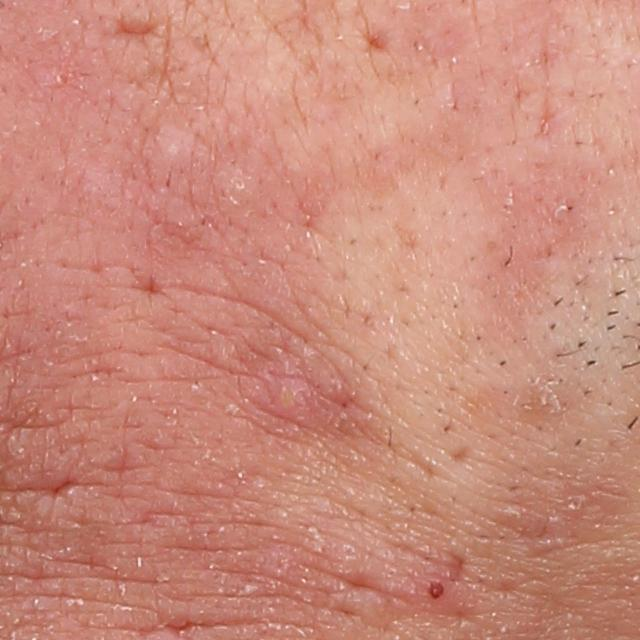atrophic_scar: (112, 13, 162, 44), (446, 547, 470, 582), (448, 444, 471, 463)
papule: (412, 567, 451, 607)
